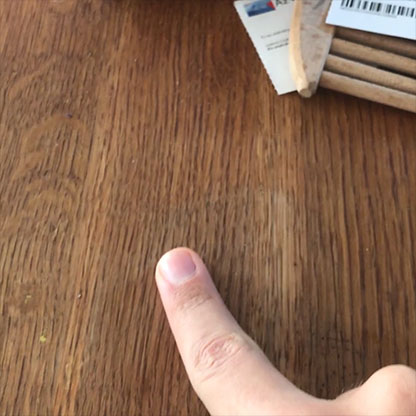fingertip: (148, 245, 218, 313)
